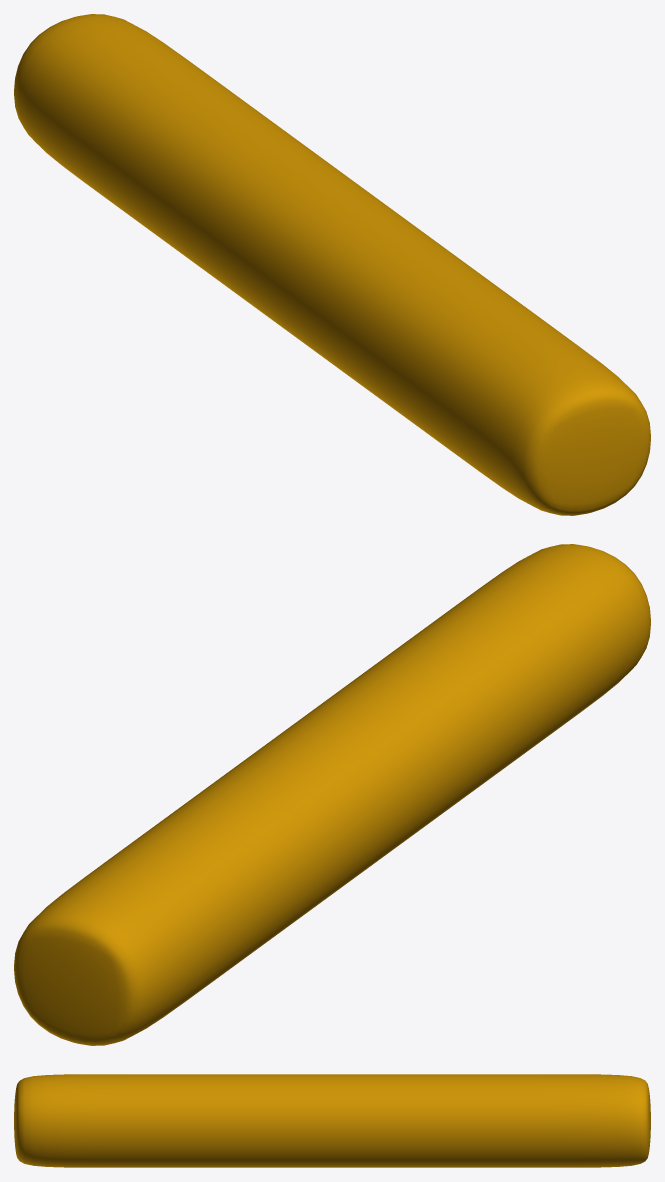
3 renders of one model, top to bottom at view 1: azimuth 30°, elevation 25°; view 2: azimuth 150°, elevation 25°; view 3: azimuth 270°, elevation 25°, orthographic. The views are drawn at different scales.
Visible parts, largest first — view 1: Cube.003; view 2: Cube.003; view 3: Cube.003.
Boxes of the visible parts, x1,y1,x2,y2 form: Cube.003: (14, 14, 650, 515); Cube.003: (14, 544, 650, 1045); Cube.003: (14, 1074, 650, 1167).
Size of the model in its own units: 1.52 by 1.42 by 9.94.
